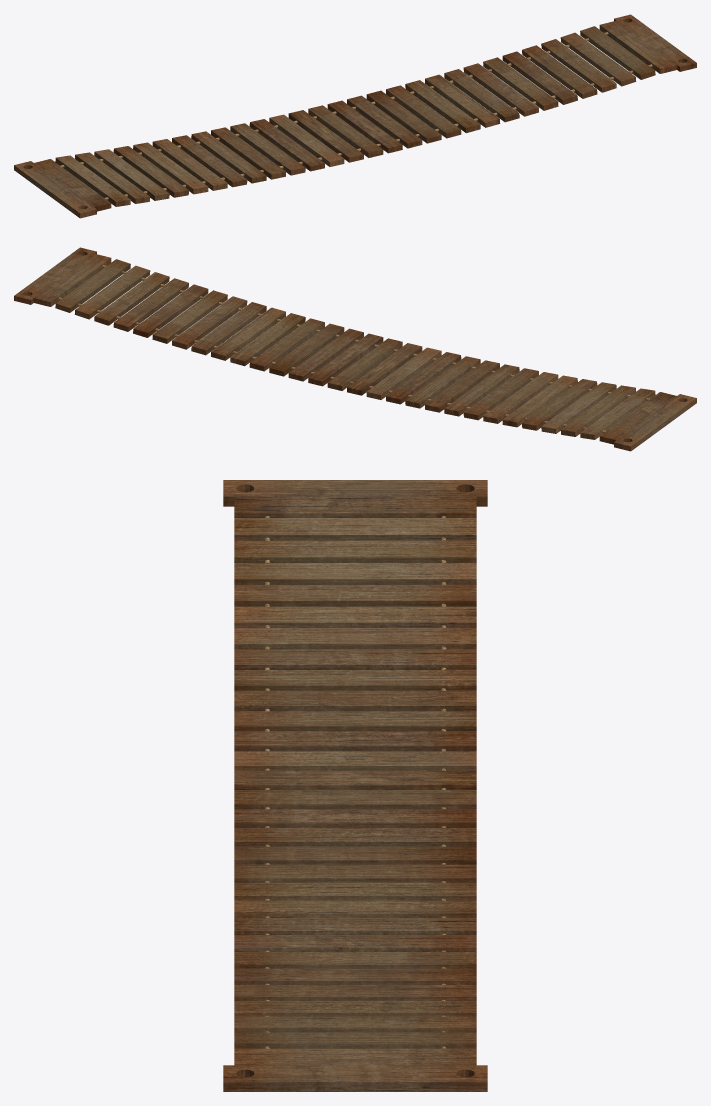
Rendered from ropebridge.obj.
3 renders of one model, top to bottom at view 1: azimuth 30°, elevation 25°; view 2: azimuth 150°, elevation 25°; view 3: azimuth 270°, elevation 25°, orthographic. The views are drawn at different scales.
Parts seen in each view (by area): view 1: ropebridgemesh; view 2: ropebridgemesh; view 3: ropebridgemesh.
Part boxes in pixels (<box>): ropebridgemesh: <box>14,14,696,218</box>; ropebridgemesh: <box>14,247,696,451</box>; ropebridgemesh: <box>223,480,487,1091</box>.
Size of the model in its own units: 12.93 by 0.3601 by 2.4.
1 material, 1 textured.
